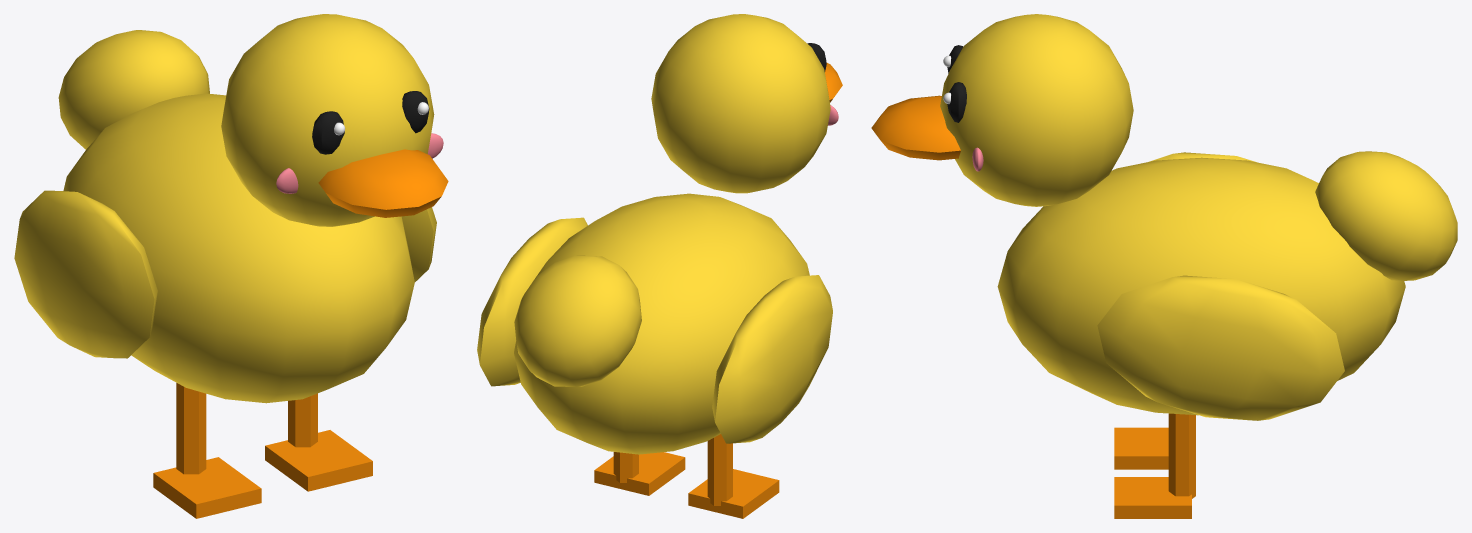
Rendered from roadevents_duck.glb.
3 views of the same model, side by side, from view 1: azimuth 30°, elevation 25°; view 2: azimuth 150°, elevation 25°; view 3: azimuth 270°, elevation 25° (orthographic). The views are drawn at different scales.
Visible parts, largest first — view 1: Body, Arm_R.001, Leg_R, Leg_L, Arm_L.001; view 2: Body, Arm_R.001, Arm_L.001, Leg_R, Leg_L; view 3: Body, Arm_L.001, Leg_L, Leg_R.
Boxes of the visible parts, x1,y1,x2,y2 form: Body: (58,14,448,403); Arm_R.001: (14,190,157,358); Leg_R: (153,383,261,518); Leg_L: (265,393,372,491); Arm_L.001: (401,207,436,281); Body: (514,14,842,454); Arm_R.001: (712,275,832,443); Arm_L.001: (477,217,587,386); Leg_R: (688,434,779,518); Leg_L: (594,452,685,495); Body: (871,14,1457,415); Arm_L.001: (1097,275,1344,420); Leg_L: (1114,413,1195,518); Leg_R: (1114,427,1168,469).
Size of the model in its own units: 0.3571 by 0.5195 by 0.6033.
